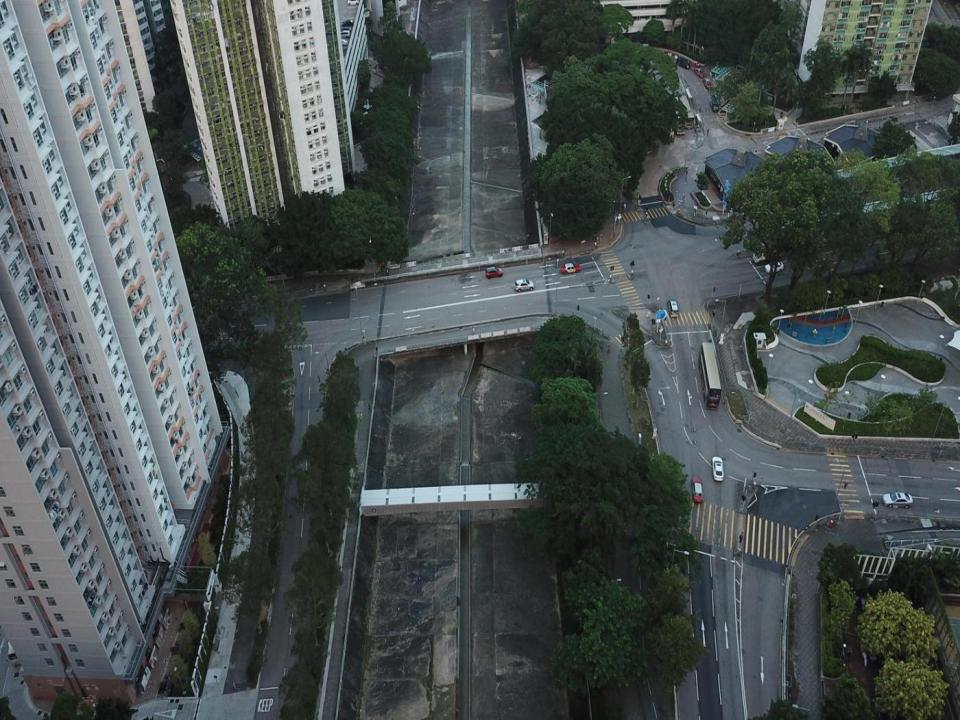bus: (698, 342, 721, 410), (670, 97, 686, 135), (680, 94, 693, 130)
car: (882, 492, 913, 509), (752, 247, 782, 262), (649, 66, 665, 88), (692, 476, 703, 503), (764, 260, 784, 274), (712, 456, 723, 481), (514, 279, 534, 292), (561, 262, 580, 274), (484, 266, 502, 278), (667, 300, 679, 318), (676, 56, 691, 69), (693, 66, 704, 78), (710, 96, 718, 112), (702, 76, 712, 88), (337, 38, 348, 47), (340, 30, 351, 38), (340, 26, 352, 33), (342, 19, 353, 26), (347, 0, 359, 5)
truck: (8, 626, 21, 666)
